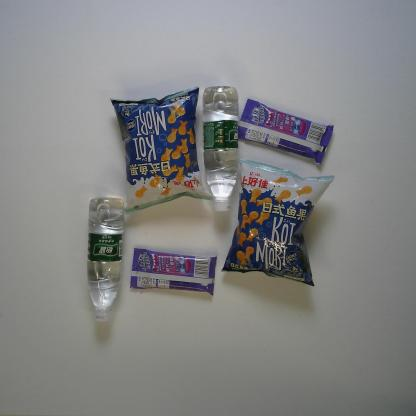Candy: (237, 98, 334, 165), (129, 248, 217, 296)
Drink: (86, 196, 126, 322), (201, 85, 239, 212)
Puffed Food: (220, 158, 335, 288), (110, 86, 214, 215)
